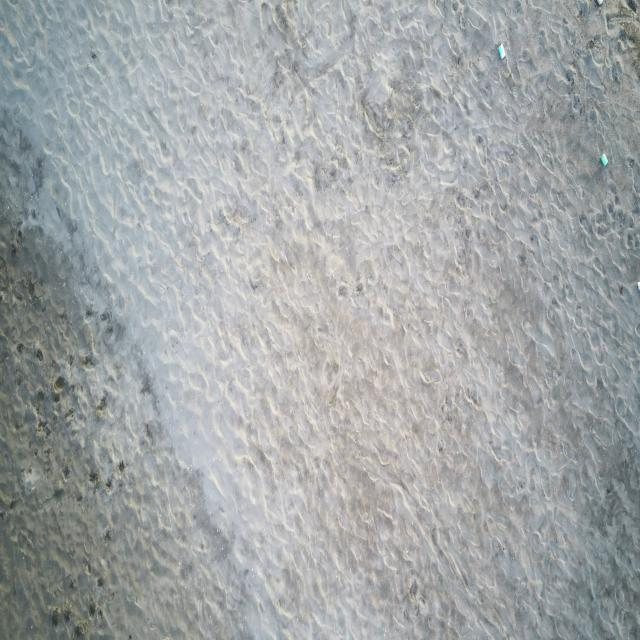Garbage: (600, 152, 607, 166), (497, 44, 503, 59), (636, 280, 639, 291), (595, 0, 602, 4)
